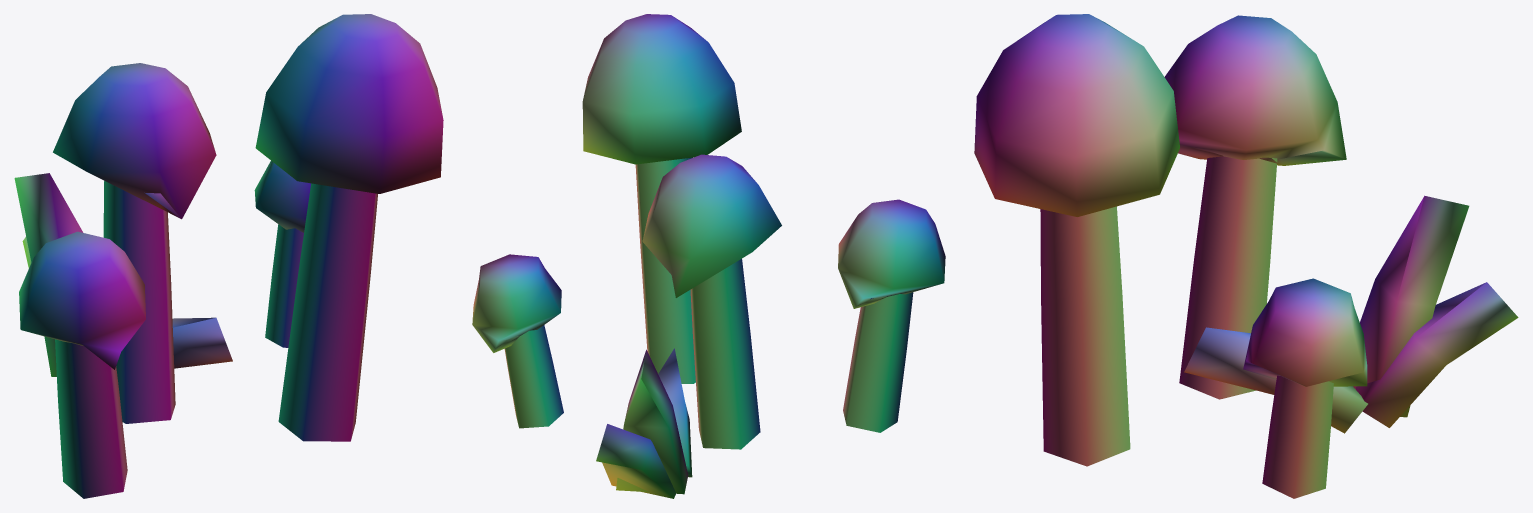
File: SM_Foliage_March_AshCap_B.fbx
The picture shows the model from 3 angles, left to right: view 1: azimuth 30°, elevation 25°; view 2: azimuth 150°, elevation 25°; view 3: azimuth 270°, elevation 25°; orthographic projection. The views are drawn at different scales.
Parts seen in each view (by area): view 1: SM_Foliage_March_AshCap_B; view 2: SM_Foliage_March_AshCap_B; view 3: SM_Foliage_March_AshCap_B.
Boxes of the visible parts, <box> form: SM_Foliage_March_AshCap_B: <box>14,14,443,498</box>; SM_Foliage_March_AshCap_B: <box>472,14,945,498</box>; SM_Foliage_March_AshCap_B: <box>974,14,1518,498</box>.
Size of the model in its own units: 0.3768 by 0.3362 by 0.3649.
